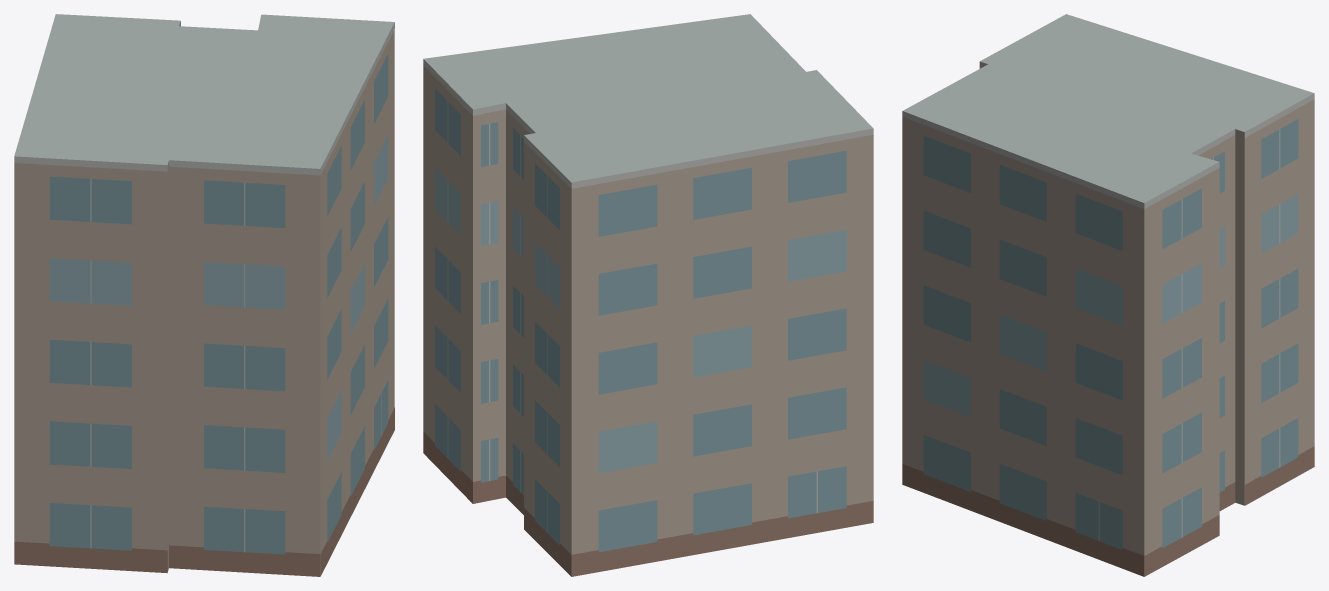
File: survey-upis-32771916.glb
3 renders of one model, left to right at view 1: azimuth 30°, elevation 25°; view 2: azimuth 150°, elevation 25°; view 3: azimuth 270°, elevation 25°, orthographic. The views are drawn at different scales.
Visible parts, largest first — view 1: survey-upis-32771916.tmp; view 2: survey-upis-32771916.tmp; view 3: survey-upis-32771916.tmp.
Boxes of the visible parts, <box> form: survey-upis-32771916.tmp: <box>14,14,394,576</box>; survey-upis-32771916.tmp: <box>423,14,873,576</box>; survey-upis-32771916.tmp: <box>902,14,1314,576</box>.
Bounding box in the file's own units: 16.56 × 15.25 × 15.25.
